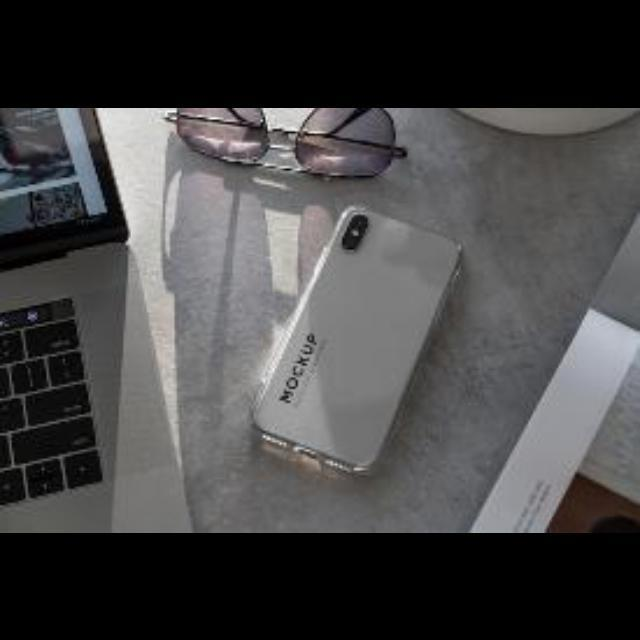PhoneUse: (248, 214, 482, 474)
